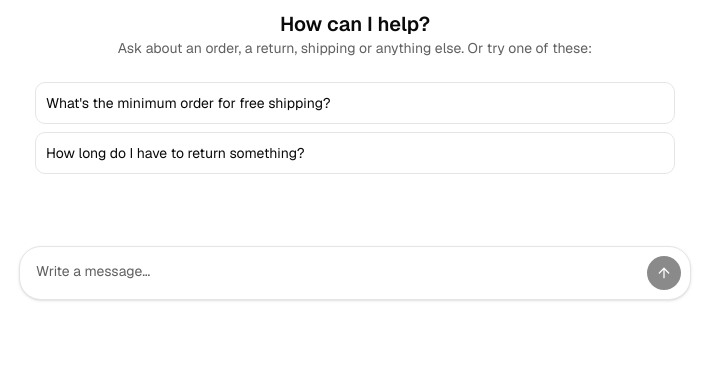
it: ChatPage › offers a new chat when this one is full
The image size is (711, 390).
Type "Hello" into the text box labelled "message" at coordinates (337, 273), box [36,255,638,291]
Then press Enter
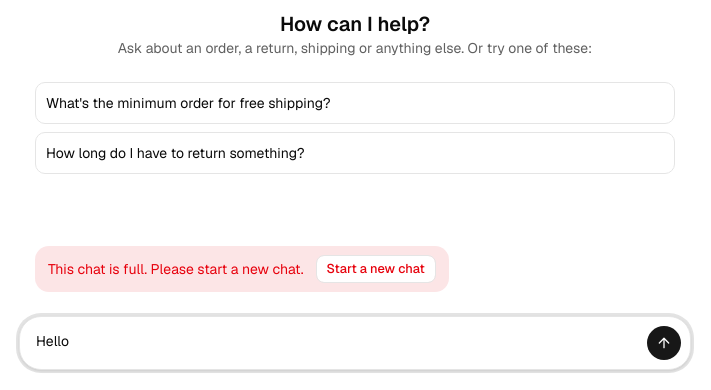
Expected: the message shows "This chat is full", [48,260,304,278]
Click the button "Start a new chat" at coordinates (376, 269), box [316,255,436,283]
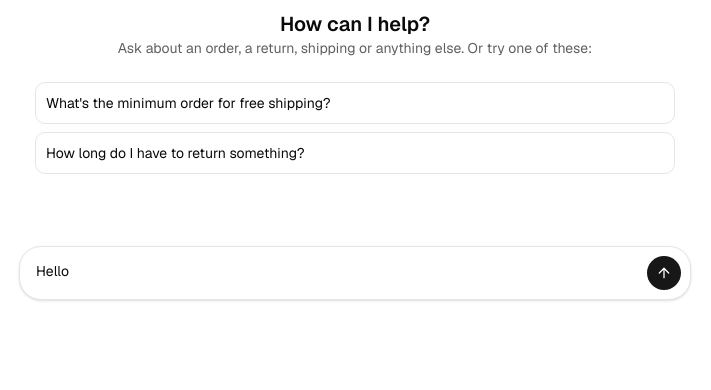
Expected: the message "This chat is full. Please start a new chat. Start a new chat" is gone
